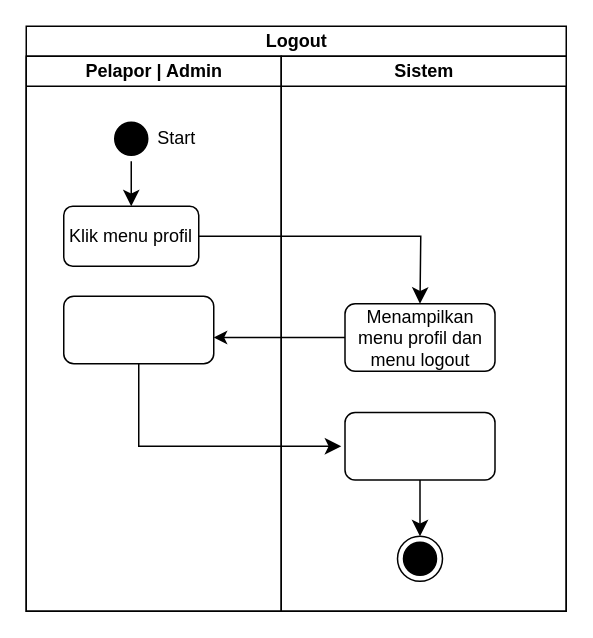
Some shapes in this 593 by 638 pixel diagram are drawn without their labels. Each missing label, with the centre of its shape:
Klik menu logout: (x=138, y=329)
Menampilkan halaman login: (x=419, y=445)
